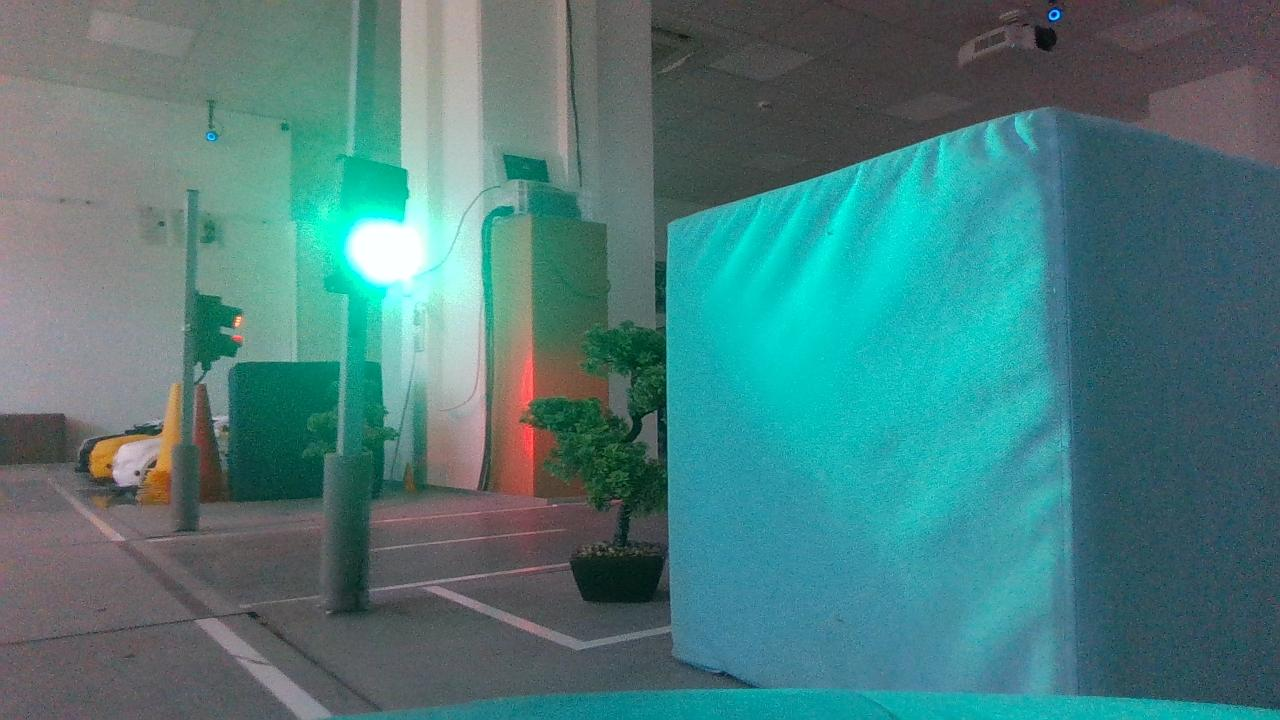traffic_light_green: (304, 142, 432, 323)
